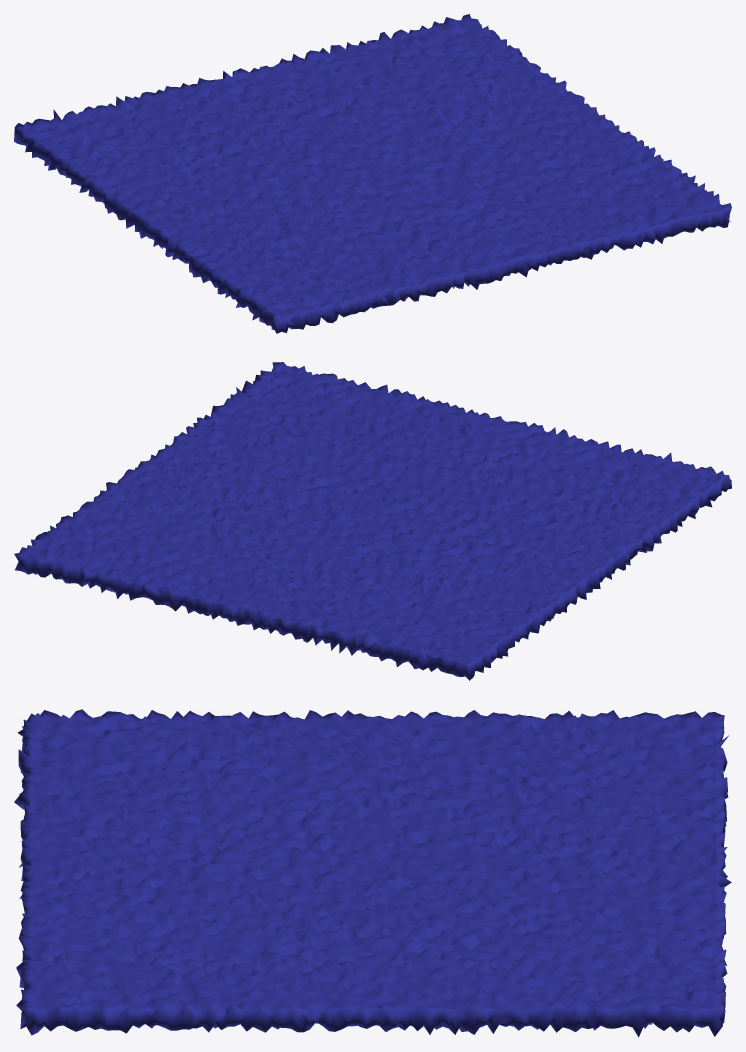
The model's file is Sea.glb.
3 renders of one model, top to bottom at view 1: azimuth 30°, elevation 25°; view 2: azimuth 150°, elevation 25°; view 3: azimuth 270°, elevation 25°, orthographic. The views are drawn at different scales.
Parts seen in each view (by area): view 1: Plane.001; view 2: Plane.001; view 3: Plane.001.
Boxes of the visible parts, x1=… form: Plane.001: x1=14, y1=14, x2=731, y2=333; Plane.001: x1=14, y1=362, x2=731, y2=680; Plane.001: x1=14, y1=709, x2=731, y2=1037.
Bounding box in the file's own units: 336 × 19.92 × 339.
